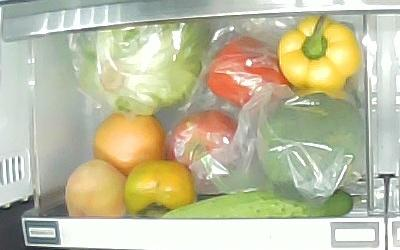apple_vinyl: (169, 110, 243, 193)
broccoli_vinyl: (257, 94, 365, 200)
cucumber: (161, 189, 354, 219)
grapefruit: (93, 112, 169, 177)
lettuce_vinyl: (79, 22, 210, 114)
paprika: (278, 14, 362, 98)
paprika_vinyl: (207, 37, 294, 111)
peach: (65, 159, 127, 219)
persimmon: (124, 161, 195, 219)
